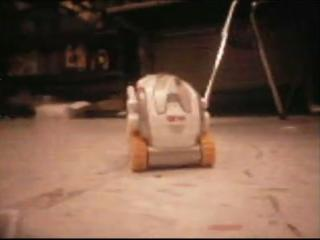cozmo: (124, 72, 216, 171)
